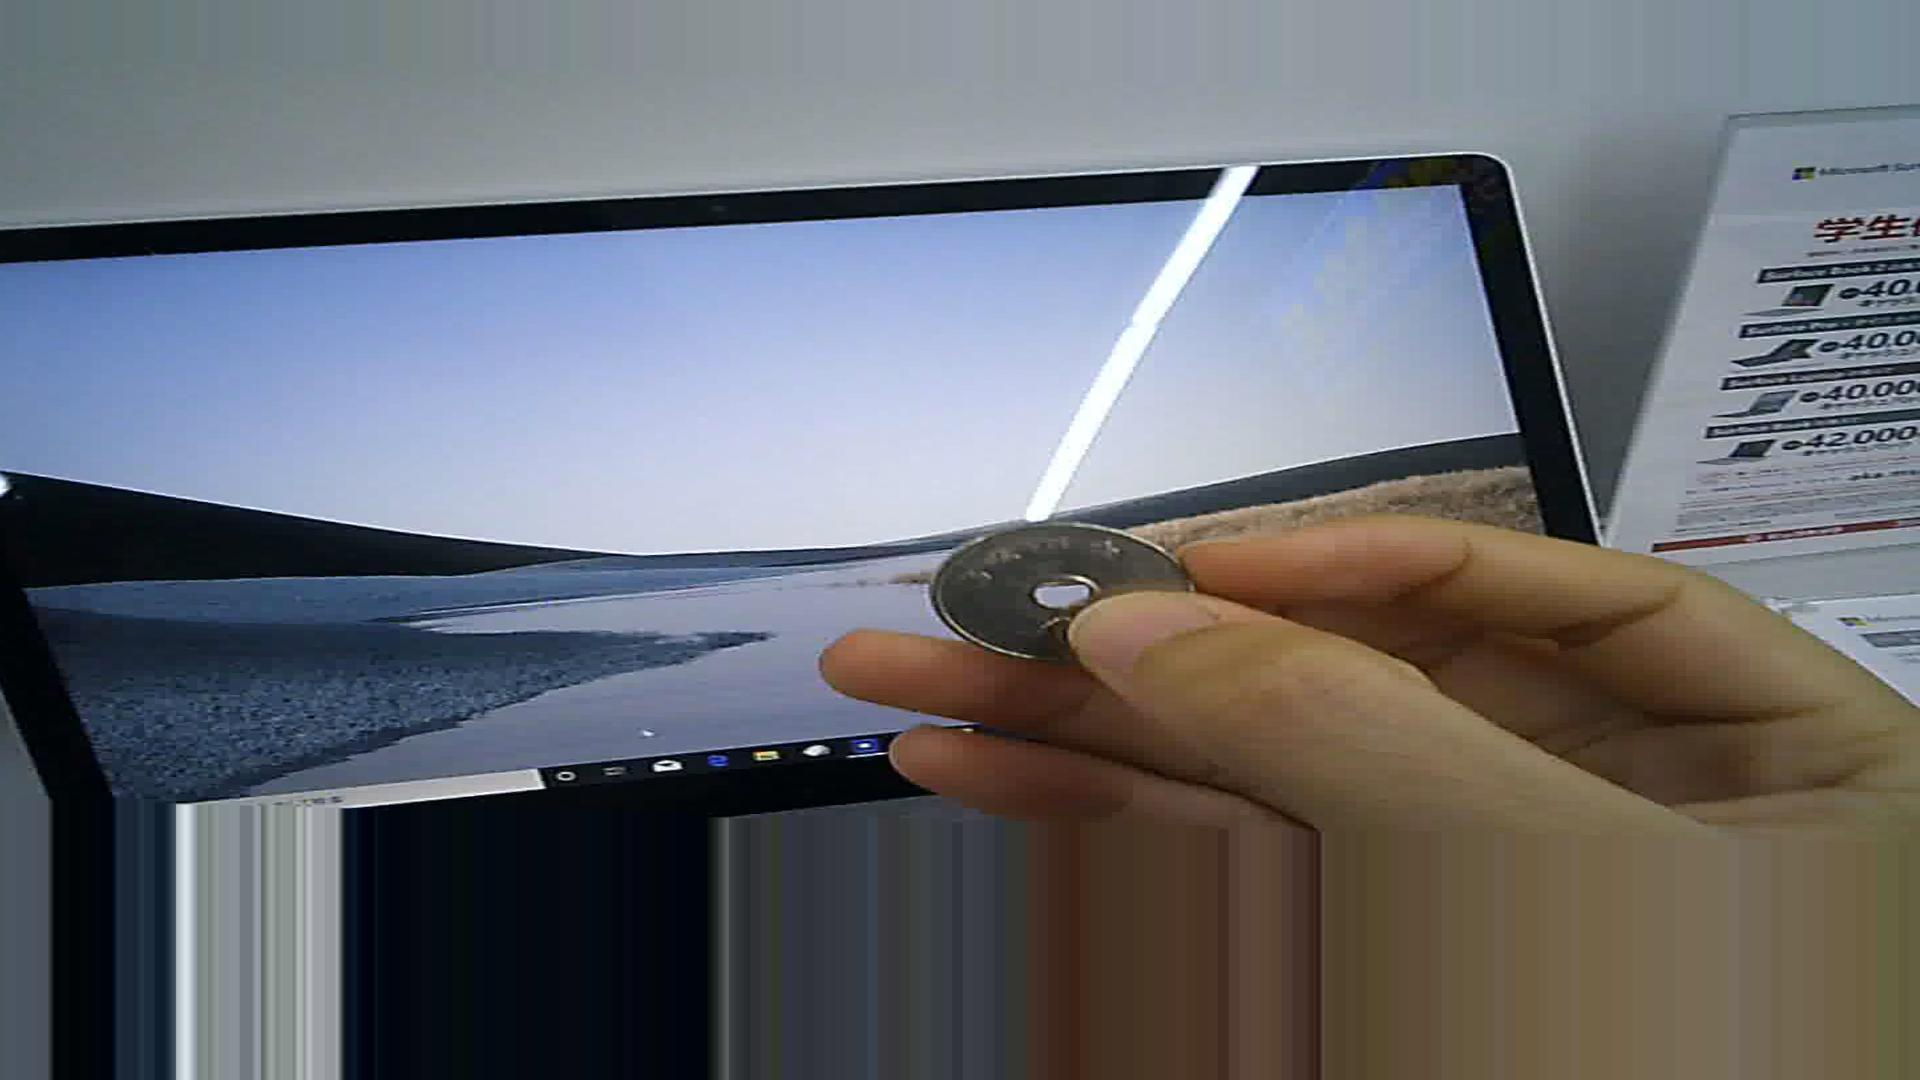50 Yen: (916, 525, 1189, 676)
